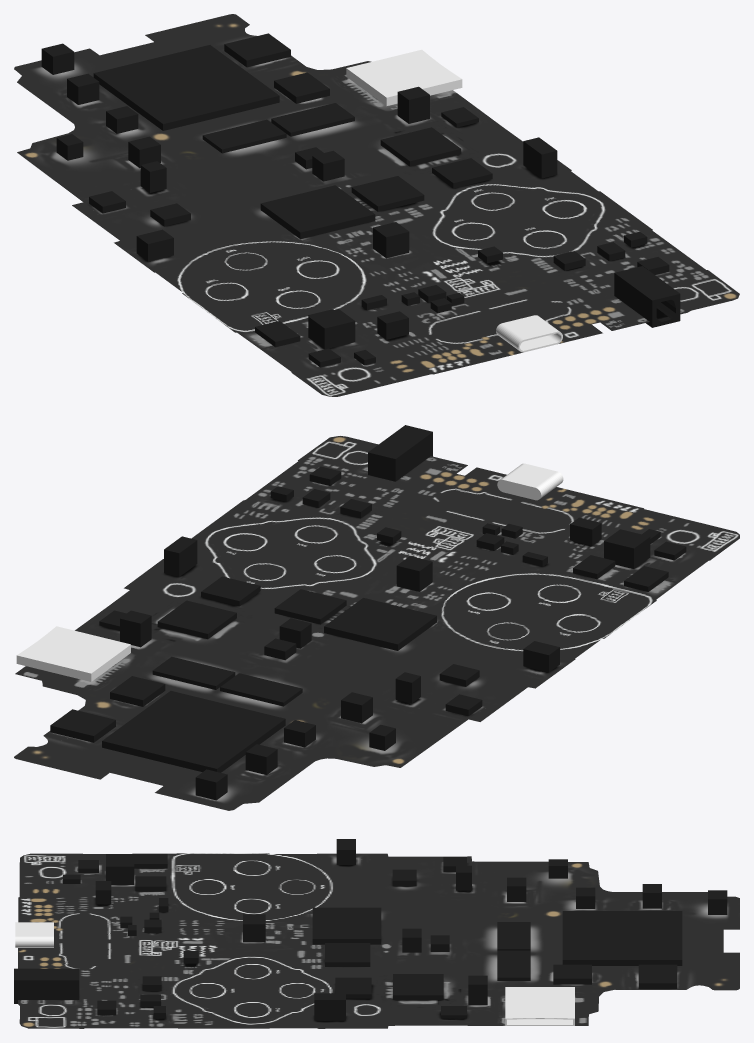
The model's file is board.glb.
The picture shows the model from 3 angles, top to bottom: view 1: azimuth 30°, elevation 25°; view 2: azimuth 150°, elevation 25°; view 3: azimuth 270°, elevation 25°; orthographic projection. The views are drawn at different scales.
Parts seen in each view (by area): view 1: Plane.001, Cube.002, Cube, Cube.030, Headphone port, Cube.001, USB-C, Cube.039, Cube.003, Cube.004, Cube.014, Cube.032 (+15 smaller); view 2: Plane.001, Cube.002, Cube.030, Cube, Headphone port, Cube.001, USB-C, Cube.039, Cube.004, Cube.003, Cube.014, Cube.032 (+16 smaller); view 3: Plane.001, Cube.002, Cube.030, Cube, Headphone port, Cube.001, Cube.039, Cube.004, USB-C, Cube.032, Cube.003, Cube.022 (+20 smaller).
Part boxes in pixels (left/top/right/bottom): Plane.001: left=14, top=14, right=739, bottom=396; Cube.002: left=93, top=45, right=279, bottom=130; Cube: left=260, top=185, right=375, bottom=239; Cube.030: left=346, top=49, right=462, bottom=105; Headphone port: left=614, top=266, right=680, bottom=327; Cube.001: left=380, top=127, right=461, bottom=166; USB-C: left=496, top=315, right=562, bottom=352; Cube.039: left=351, top=176, right=424, bottom=211; Cube.003: left=202, top=119, right=286, bottom=153; Cube.004: left=271, top=103, right=354, bottom=136; Cube.014: left=308, top=309, right=355, bottom=349; Cube.032: left=224, top=33, right=290, bottom=67; Plane.001: left=14, top=436, right=739, bottom=810; Cube.002: left=102, top=691, right=285, bottom=772; Cube.030: left=16, top=626, right=130, bottom=681; Cube: left=324, top=598, right=436, bottom=650; Headphone port: left=368, top=425, right=432, bottom=481; Cube.001: left=157, top=600, right=236, bottom=639; USB-C: left=497, top=463, right=563, bottom=500; Cube.039: left=274, top=589, right=346, bottom=624; Cube.004: left=152, top=656, right=235, bottom=689; Cube.003: left=220, top=673, right=302, bottom=706; Cube.014: left=604, top=529, right=650, bottom=568; Cube.032: left=50, top=709, right=115, bottom=742; Plane.001: left=18, top=853, right=739, bottom=1028; Cube.002: left=562, top=911, right=682, bottom=965; Cube.030: left=505, top=987, right=574, bottom=1025; Cube: left=312, top=907, right=381, bottom=944; Headphone port: left=14, top=968, right=79, bottom=1003; Cube.001: left=393, top=974, right=443, bottom=999; Cube.039: left=325, top=943, right=370, bottom=966; Cube.004: left=497, top=950, right=530, bottom=980; USB-C: left=15, top=922, right=53, bottom=947; Cube.032: left=638, top=964, right=677, bottom=988; Cube.003: left=497, top=922, right=530, bottom=950; Cube.022: left=314, top=993, right=345, bottom=1020.
Bounding box in the file's own units: 2.78 × 0.1885 × 4.85.
3 materials, 1 textured.
